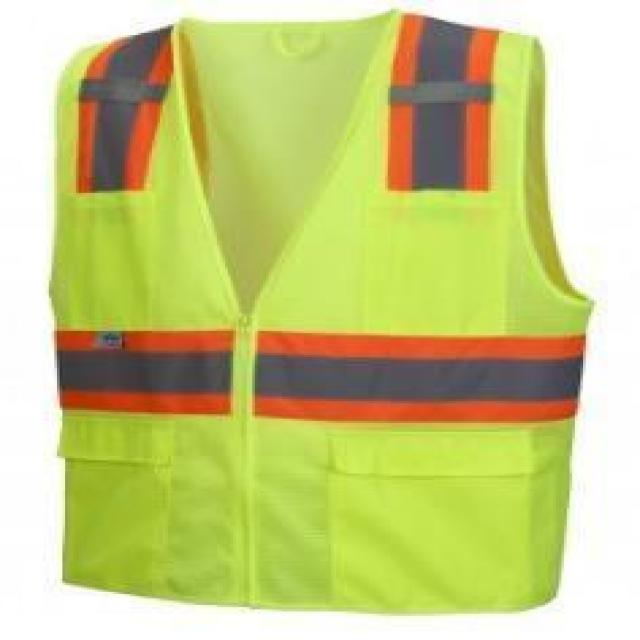vest: (46, 7, 591, 618)
